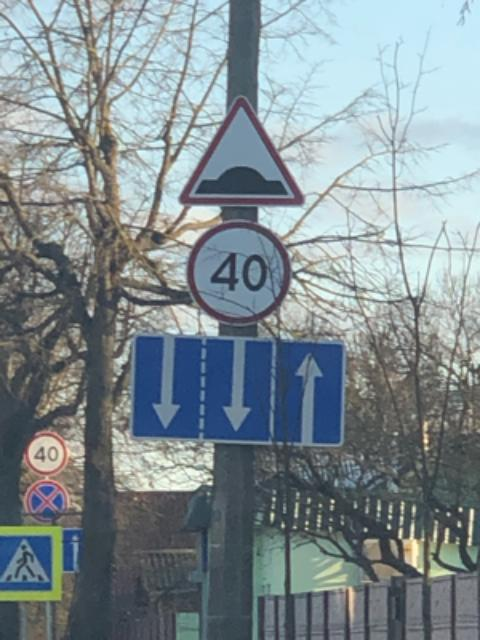crosswalk-sign: (1, 530, 59, 595)
